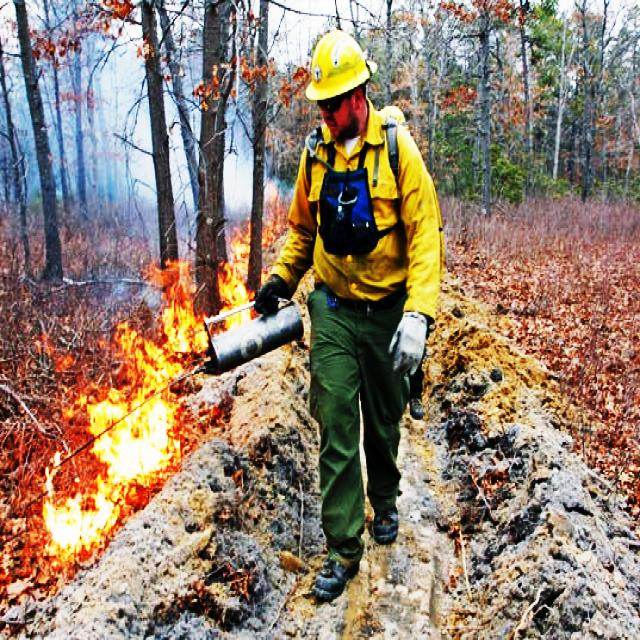api: (73, 362, 186, 503), (44, 449, 142, 568), (143, 258, 228, 378), (108, 328, 188, 411), (227, 214, 256, 337), (262, 176, 288, 250)
